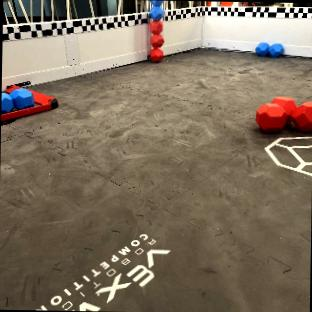V5_BLUE: (255, 43, 283, 56), (150, 2, 162, 19)
V5_RED: (255, 96, 312, 132), (149, 19, 162, 47), (150, 47, 162, 61)
